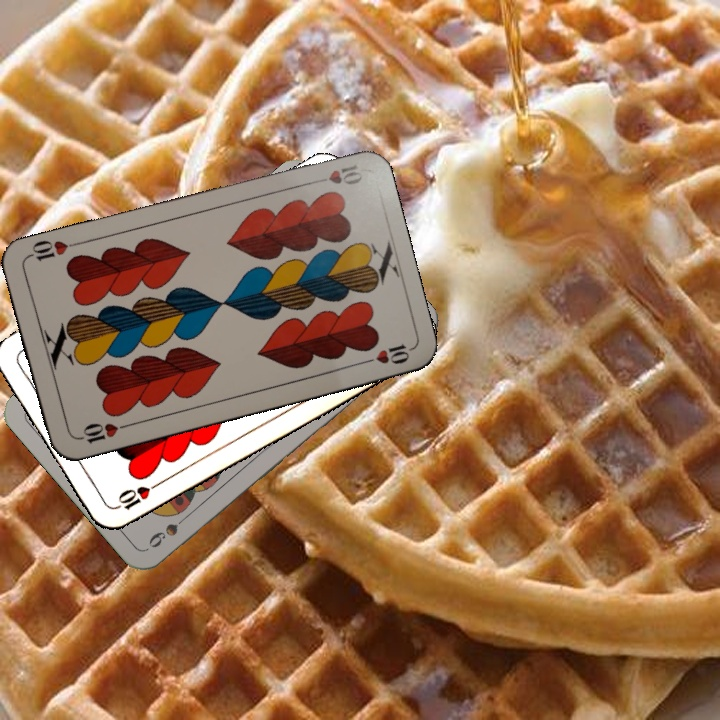H10: (110, 477, 164, 513), (306, 160, 365, 188), (73, 419, 132, 446)
S9: (144, 508, 194, 551)
